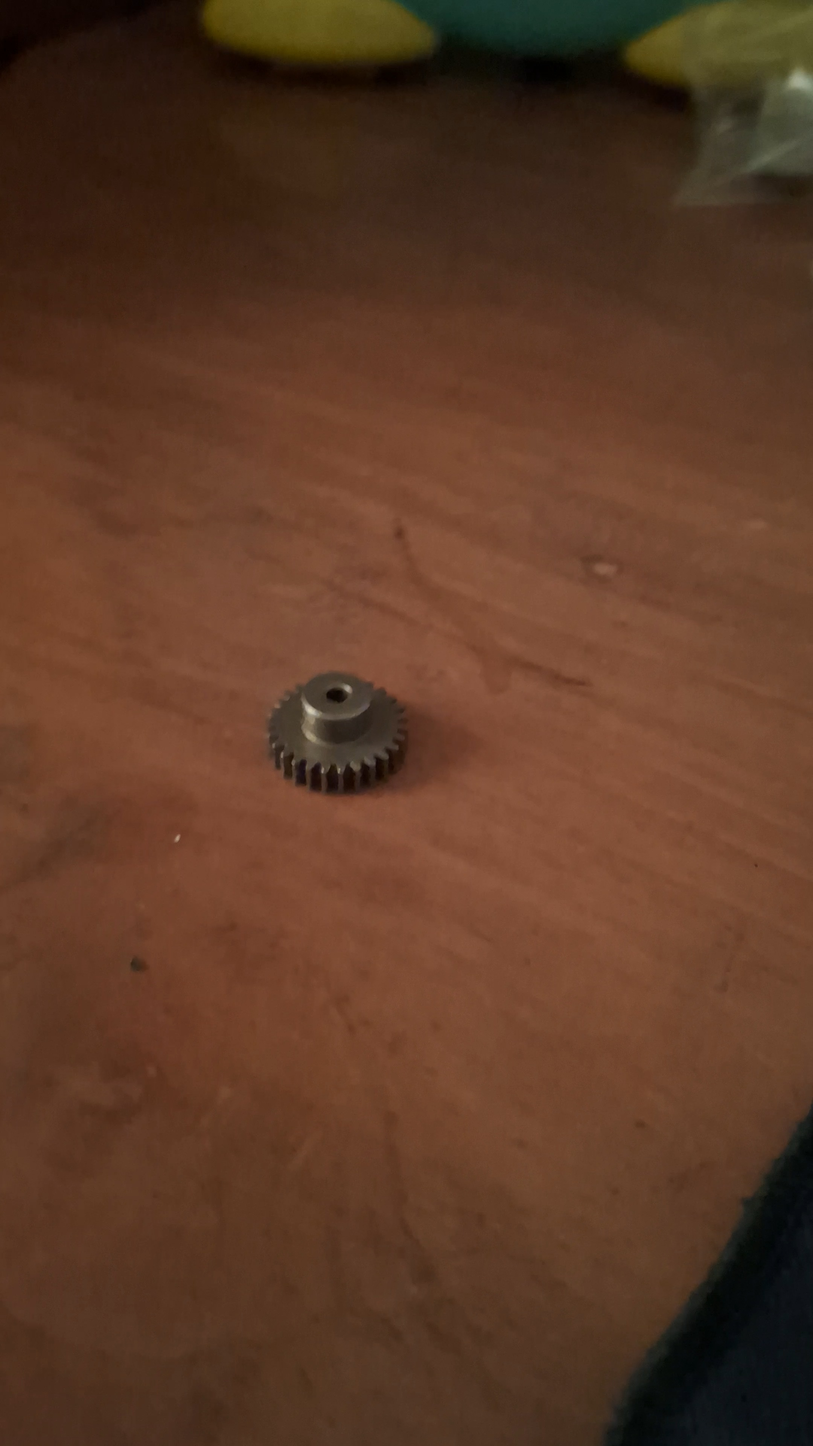spur gear: (269, 672, 406, 792)
